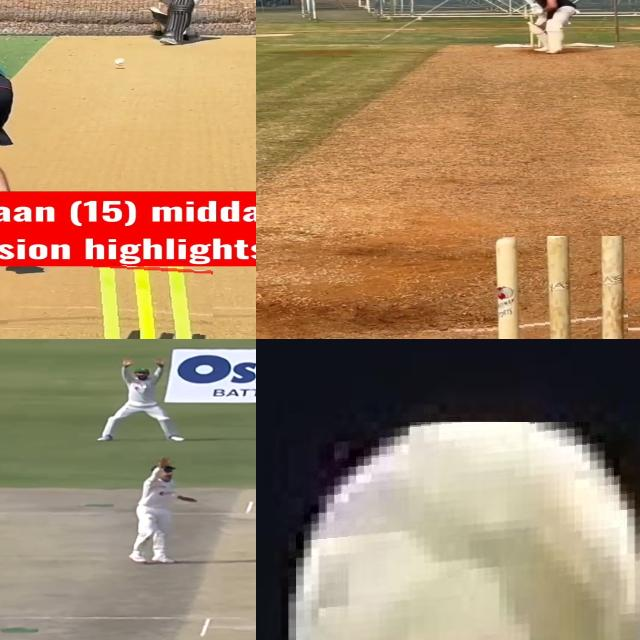Cricket ball: (279, 422, 640, 640), (113, 58, 126, 66)
Stumps: (486, 236, 628, 339), (84, 263, 213, 339)
